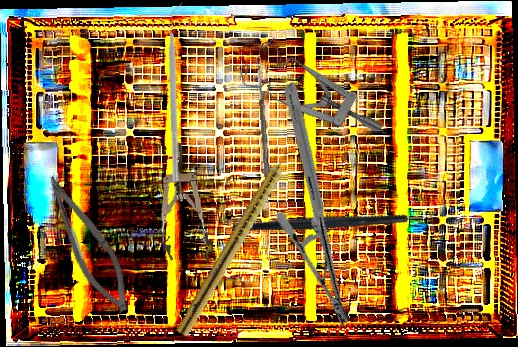Chopper: (94, 2, 263, 183), (231, 146, 442, 290)
Handpiece: (175, 140, 301, 340)
Micro Scissor: (29, 168, 145, 320)
Needle Holder: (196, 81, 438, 328)
Speculum: (230, 16, 386, 179), (153, 141, 215, 265)
Surgical Spoon: (256, 56, 272, 198)
